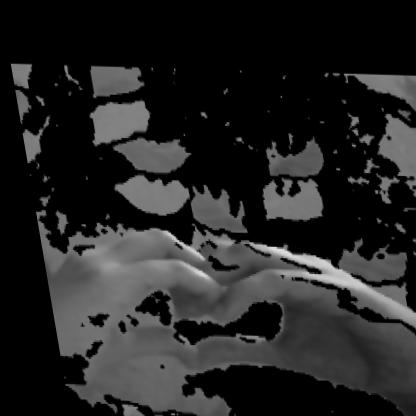heart: (48, 219, 389, 381)
